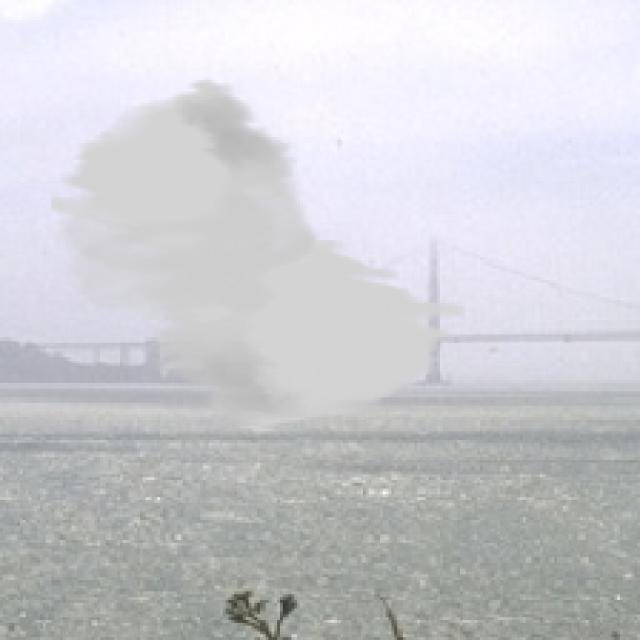smoke: (48, 77, 466, 434)
